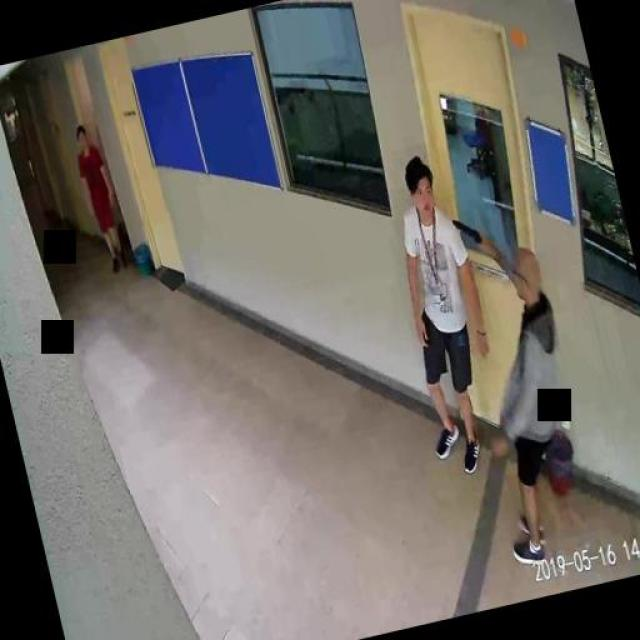gun: (450, 213, 486, 255)
